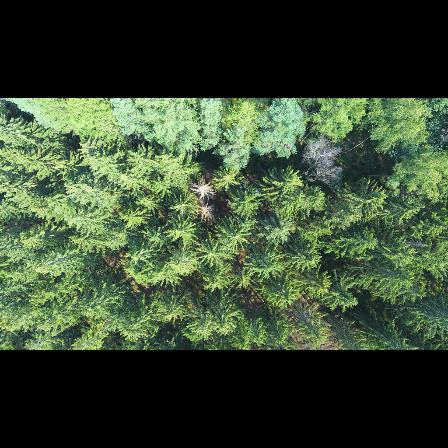Dead: (301, 134, 343, 189), (187, 178, 217, 200), (195, 200, 217, 223)
